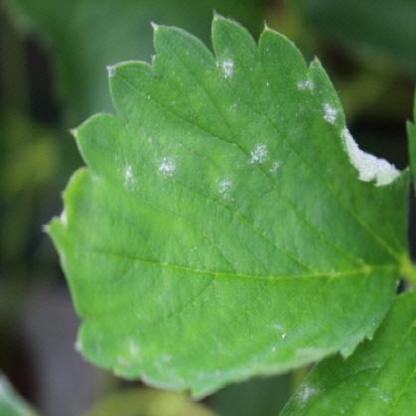Strawberry_Powdery_Mildew_Leaf: (40, 9, 414, 402), (277, 287, 415, 415)
